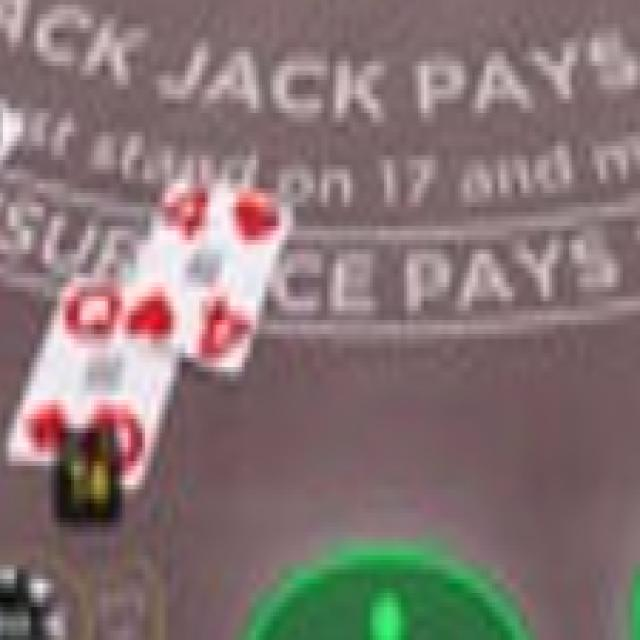Card-4: (117, 173, 295, 378)
Card-Q: (9, 269, 175, 489)
